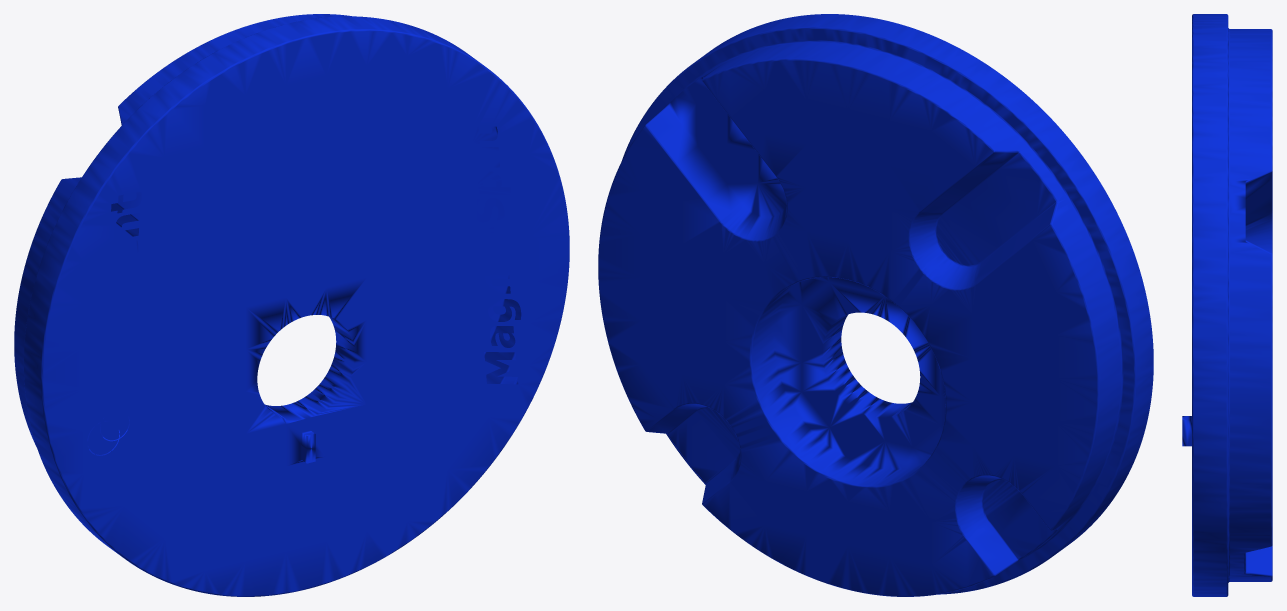
The model's file is upmfr4.obj.
The picture shows the model from 3 angles, left to right: view 1: azimuth 30°, elevation 25°; view 2: azimuth 150°, elevation 25°; view 3: azimuth 270°, elevation 25°; orthographic projection. The views are drawn at different scales.
Bounding box in the file's own units: 60.5 × 60.5 × 9.36.
